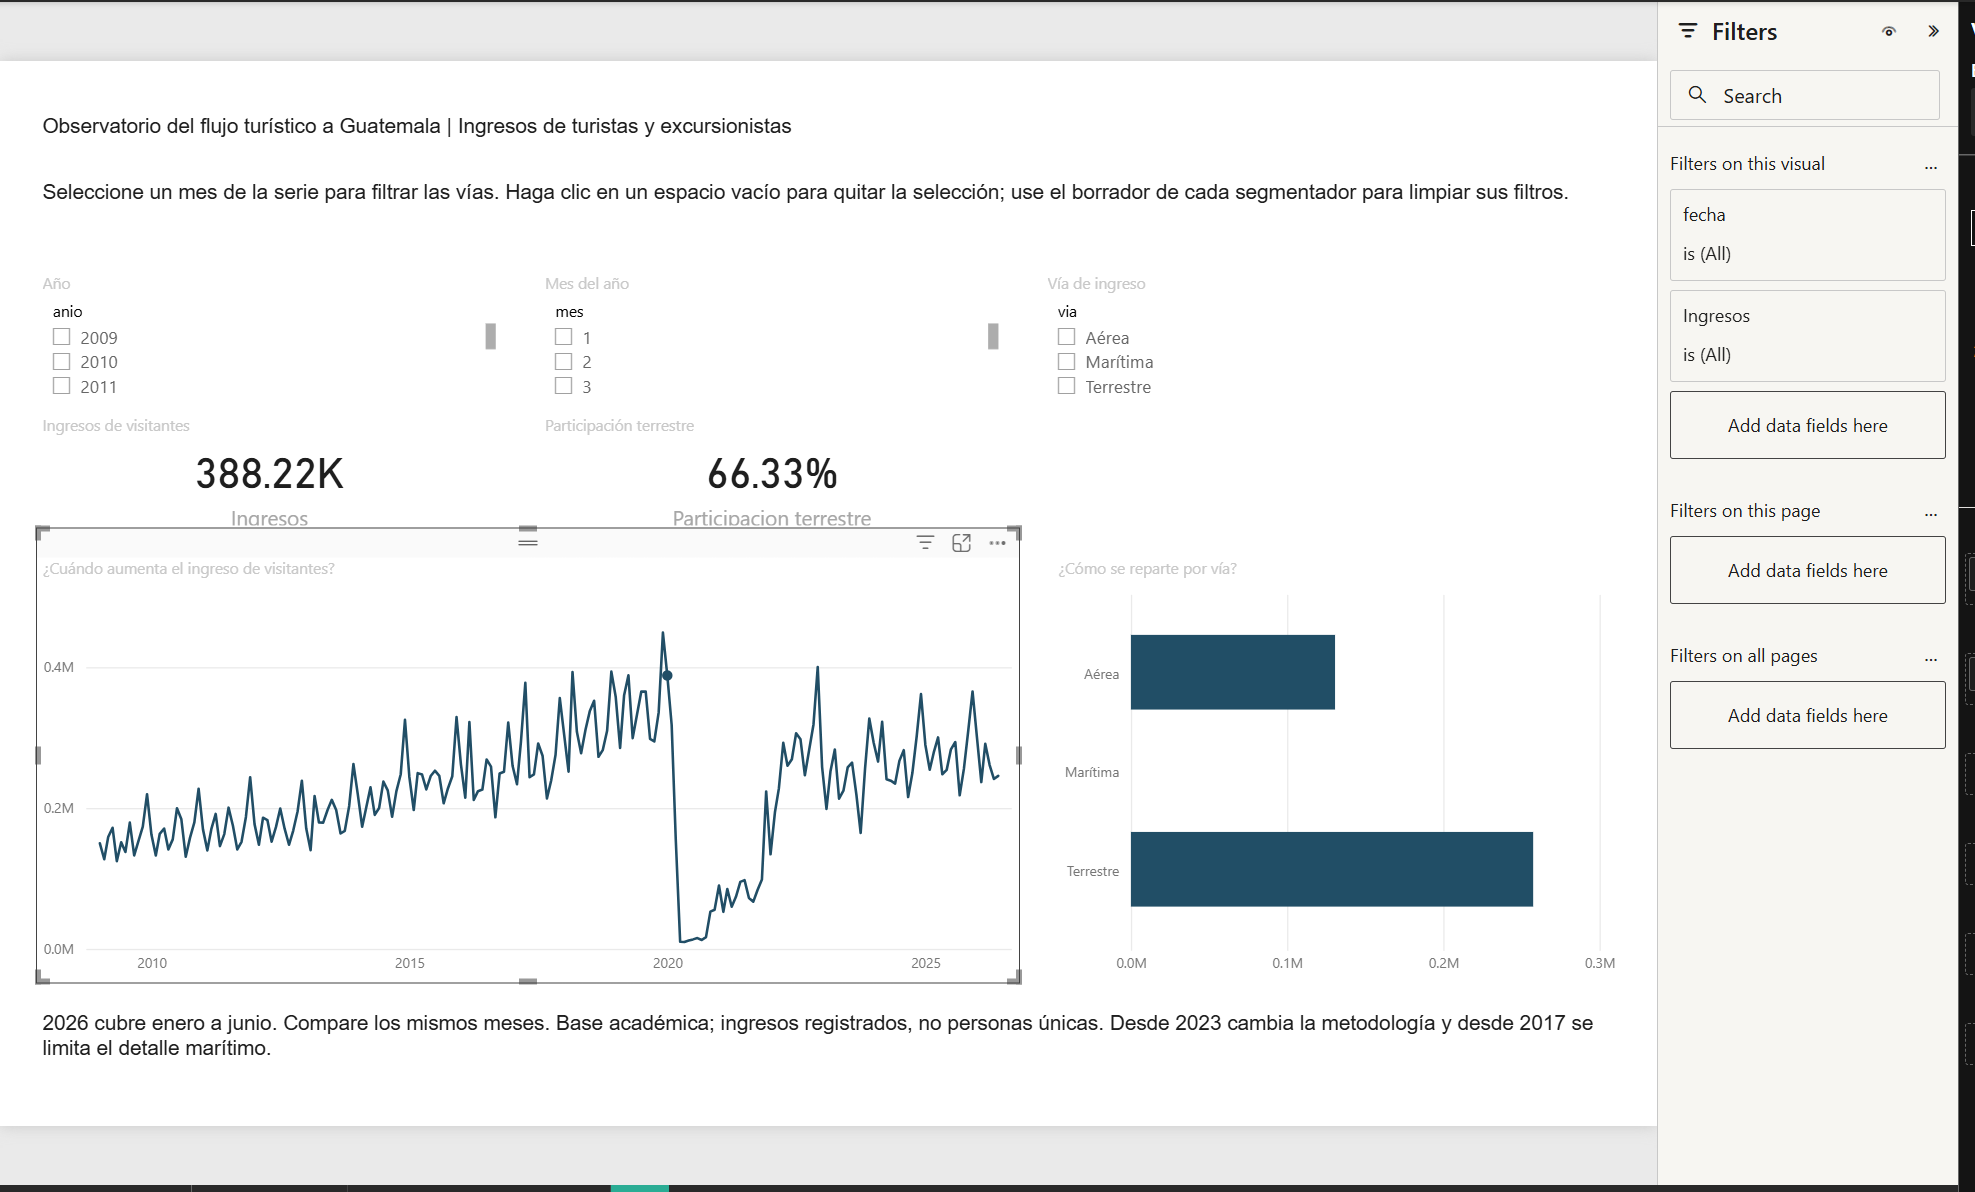

The page's visual inventory and layout, read from the dashboard file:
{"tool":"powerbi","page":{"name":"Exploración","canvas":[1280,800],"ordinal":0},"visuals":[{"type":"textbox","box":[28,12,1224,45],"z":0},{"type":"textbox","box":[28,62,1224,65],"z":0},{"type":"slicer","title":"Año","fields":{"Values":["Calendario.anio"]},"box":[28,140,360,100],"z":0},{"type":"slicer","title":"Mes del año","fields":{"Values":["Calendario.mes"]},"box":[416,140,360,100],"z":0},{"type":"slicer","title":"Vía de ingreso","fields":{"Values":["Flujo.via"]},"box":[804,140,448,100],"z":0},{"type":"card","title":"Ingresos de visitantes","fields":{"Values":["Flujo.Ingresos"]},"box":[28,250,360,90],"z":0},{"type":"card","title":"Participación terrestre","fields":{"Values":["Flujo.Participacion terrestre"]},"box":[416,250,360,90],"z":0},{"type":"lineChart","title":"¿Cuándo aumenta el ingreso de visitantes?","fields":{"Category":["Calendario.fecha"],"Y":["Flujo.Ingresos"]},"box":[28,360,760,330],"z":0},{"type":"clusteredBarChart","title":"¿Cómo se reparte por vía?","fields":{"Category":["Flujo.via"],"Y":["Flujo.Ingresos"]},"box":[812,360,440,330],"z":0},{"type":"textbox","box":[28,705,1224,75],"z":0}]}

Visuals, with their boxes on the page's 1280x800 design canvas (x1, y1, x2, y2). These are canvas units, not pixel positions in the 1975x1192 screenshot, which may show the page scaled, cropped or inside an application window:
textbox: [28, 12, 1252, 57]
textbox: [28, 62, 1252, 127]
"Año" slicer: [28, 140, 388, 240]
"Mes del año" slicer: [416, 140, 776, 240]
"Vía de ingreso" slicer: [804, 140, 1252, 240]
"Ingresos de visitantes" card: [28, 250, 388, 340]
"Participación terrestre" card: [416, 250, 776, 340]
"¿Cuándo aumenta el ingreso de visitantes?" lineChart: [28, 360, 788, 690]
"¿Cómo se reparte por vía?" clusteredBarChart: [812, 360, 1252, 690]
textbox: [28, 705, 1252, 780]
